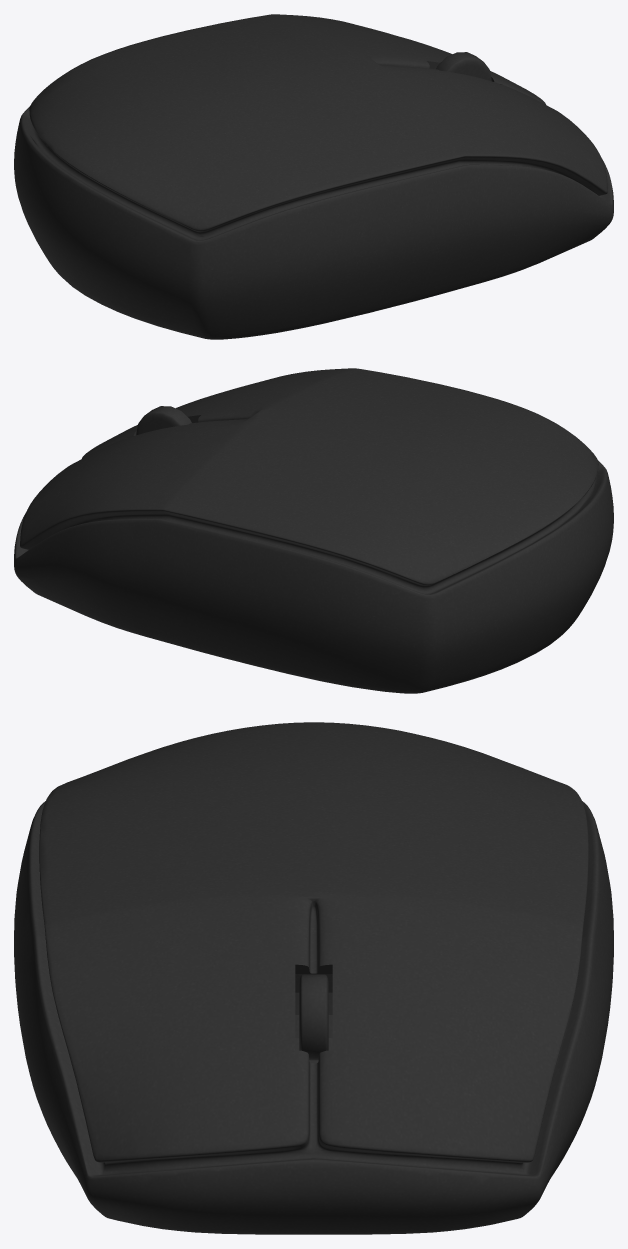
The model's file is pc_mouse.glb.
3 views of the same model, one above another, from view 1: azimuth 30°, elevation 25°; view 2: azimuth 150°, elevation 25°; view 3: azimuth 270°, elevation 25° (orthographic). The views are drawn at different scales.
Parts seen in each view (by area): view 1: pc_mouse; view 2: pc_mouse; view 3: pc_mouse.
Boxes of the visible parts, x1,y1,x2,y2 form: pc_mouse: (14, 14, 613, 339); pc_mouse: (14, 368, 613, 693); pc_mouse: (14, 722, 613, 1234).
Size of the model in its own units: 0.1036 by 0.0316 by 0.075.
1 material, 1 textured.
